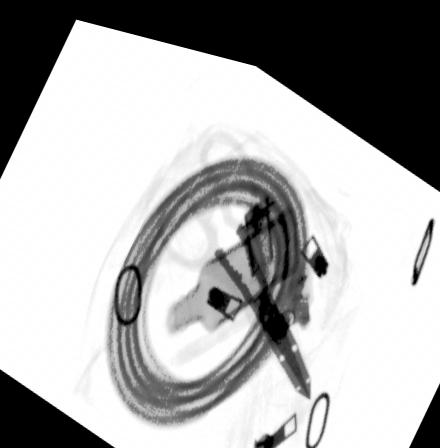Scissors: (156, 116, 310, 383)
